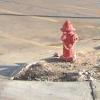a fire hydrant: (60, 20, 78, 60)
